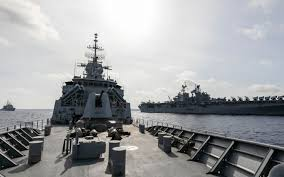tau_muctieu: (27, 65, 212, 177), (137, 69, 284, 119)
